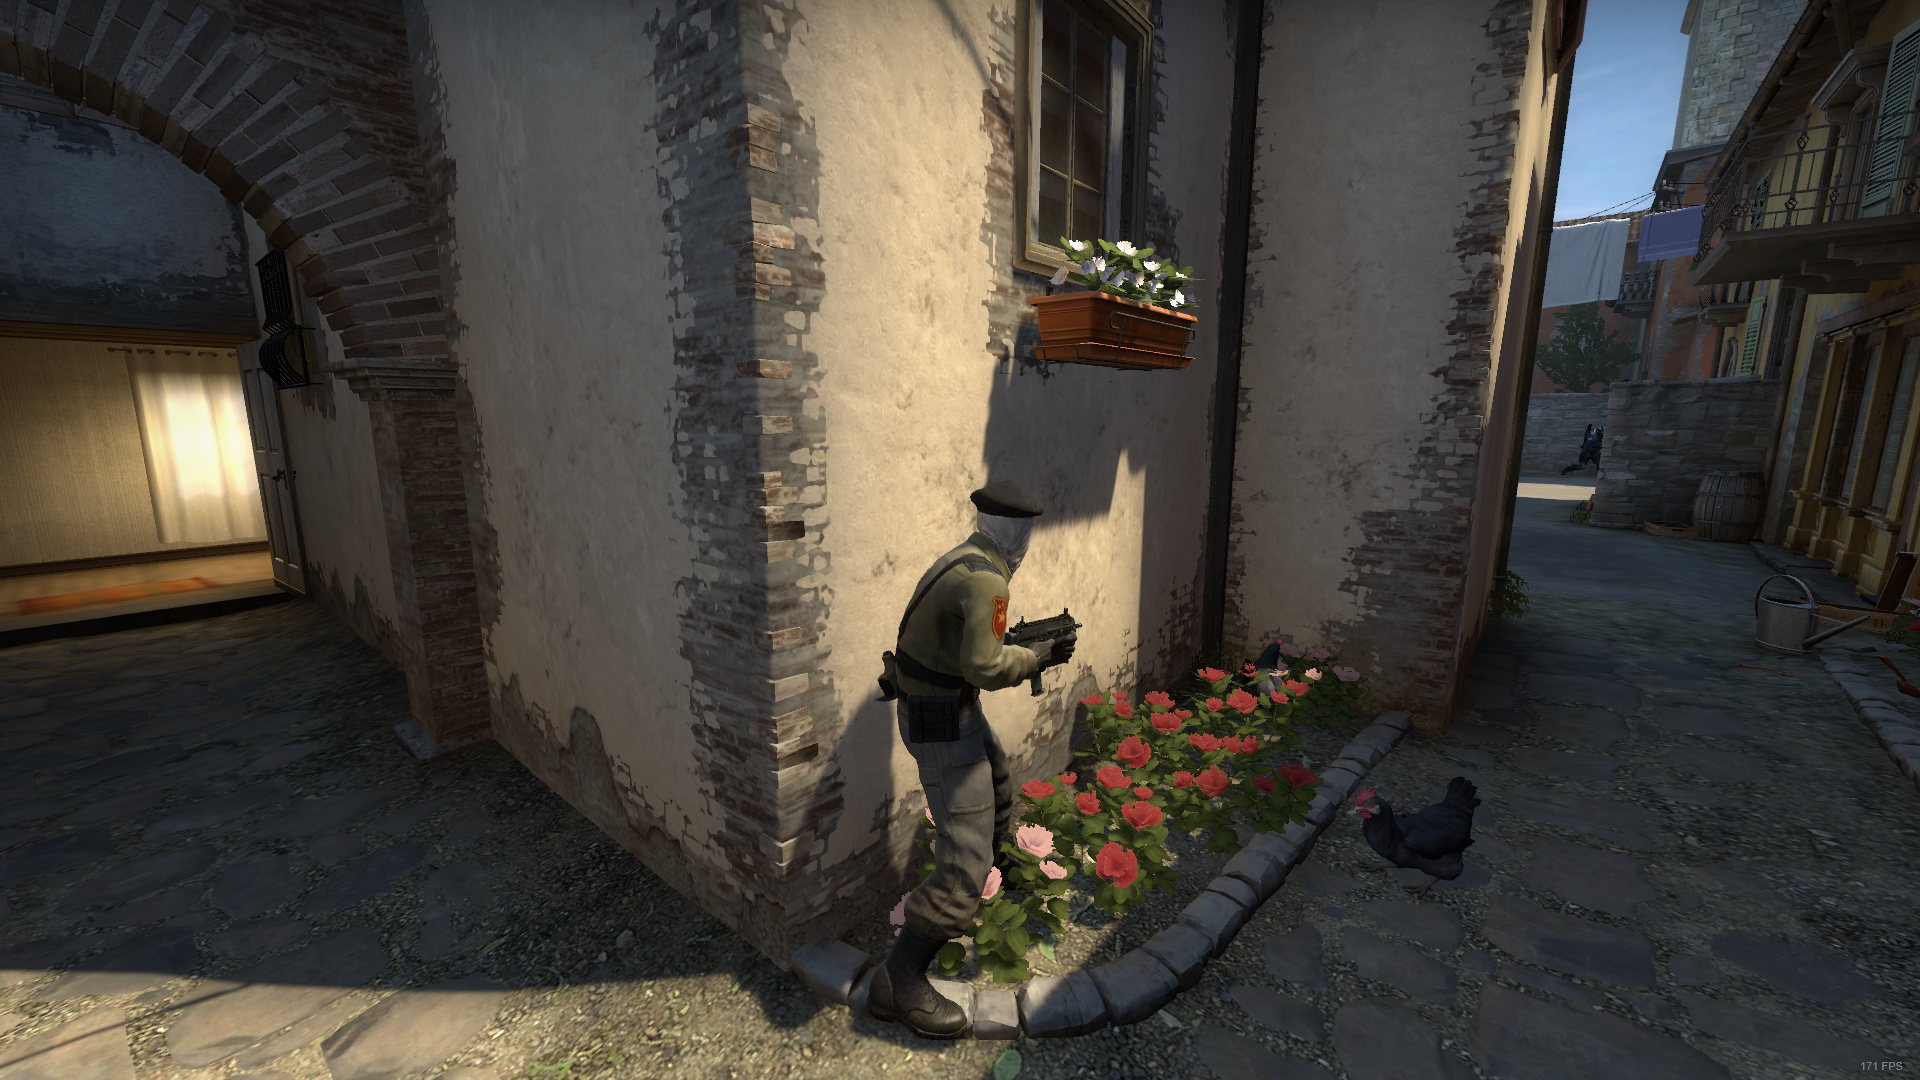t: (872, 483, 1087, 1042)
